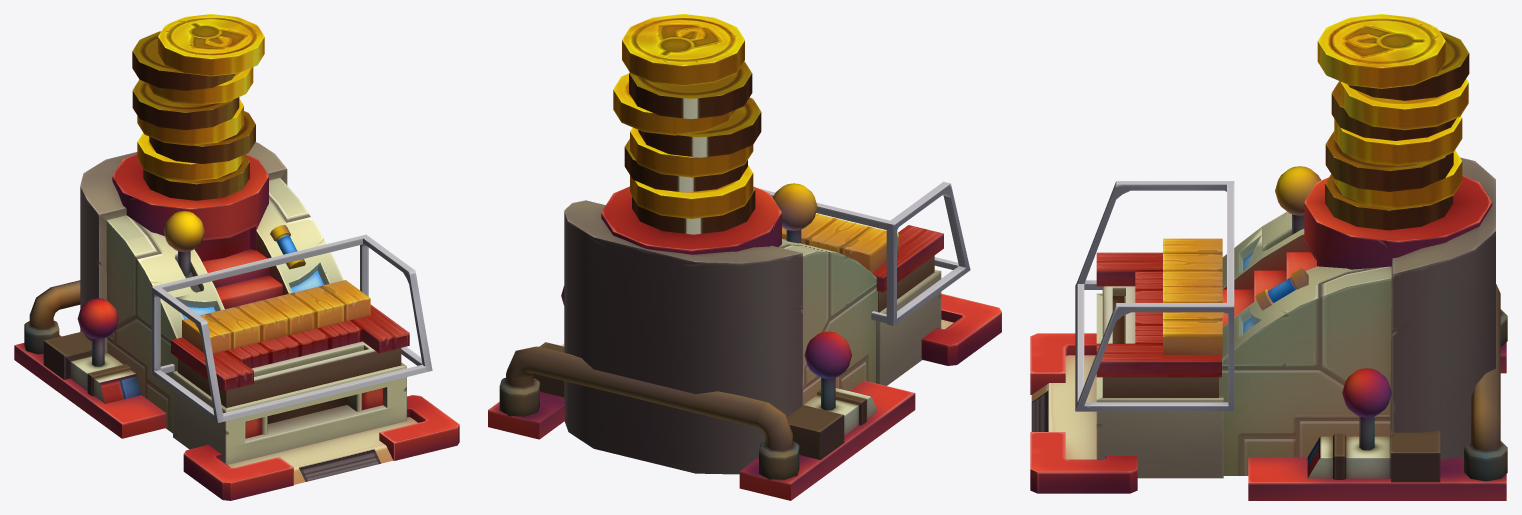
Rendered from scenes_construction_coinmachine01a.FBX.
The picture shows the model from 3 angles, left to right: view 1: azimuth 30°, elevation 25°; view 2: azimuth 150°, elevation 25°; view 3: azimuth 270°, elevation 25°; orthographic projection. The views are drawn at different scales.
Parts seen in each view (by area): view 1: scenes_construction_coinmachine01a; view 2: scenes_construction_coinmachine01a; view 3: scenes_construction_coinmachine01a.
Part boxes in pixels (x1=…): scenes_construction_coinmachine01a: x1=14, y1=14, x2=459, y2=500; scenes_construction_coinmachine01a: x1=488, y1=14, x2=1001, y2=500; scenes_construction_coinmachine01a: x1=1030, y1=14, x2=1507, y2=500.
Size of the model in its own units: 1364 by 1623 by 1791.
